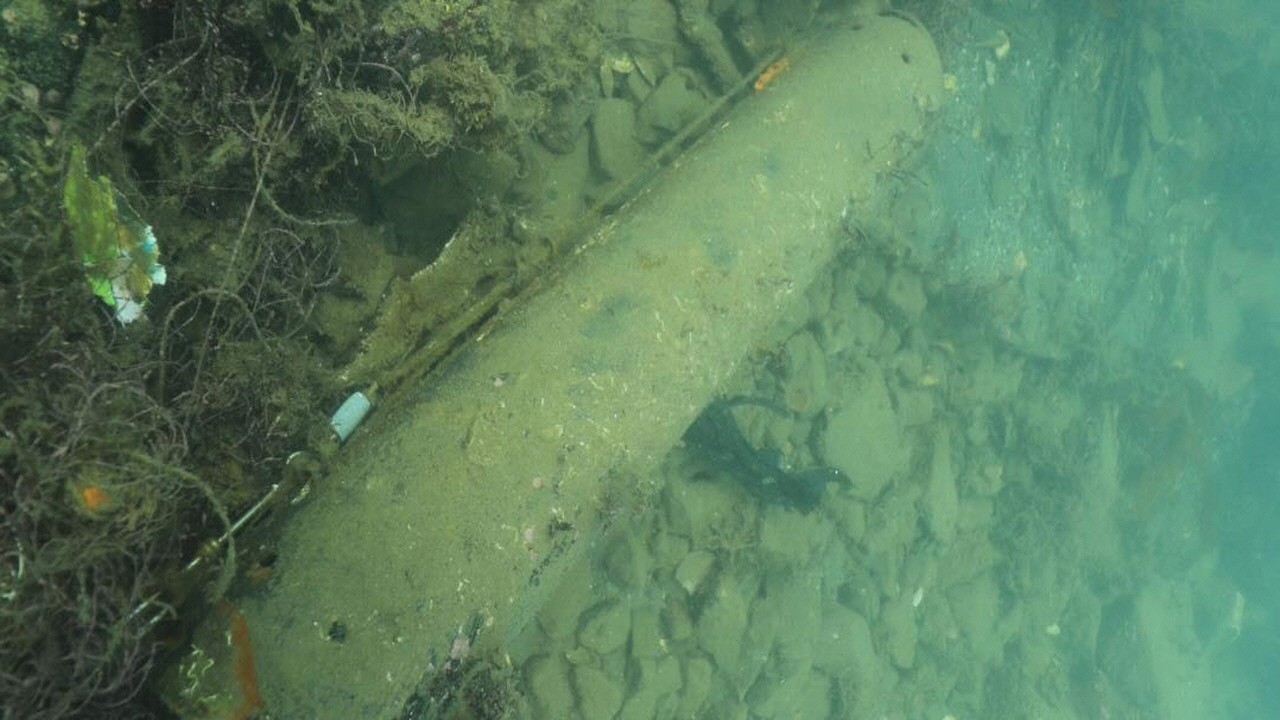eel fish trap: (151, 8, 946, 720)
